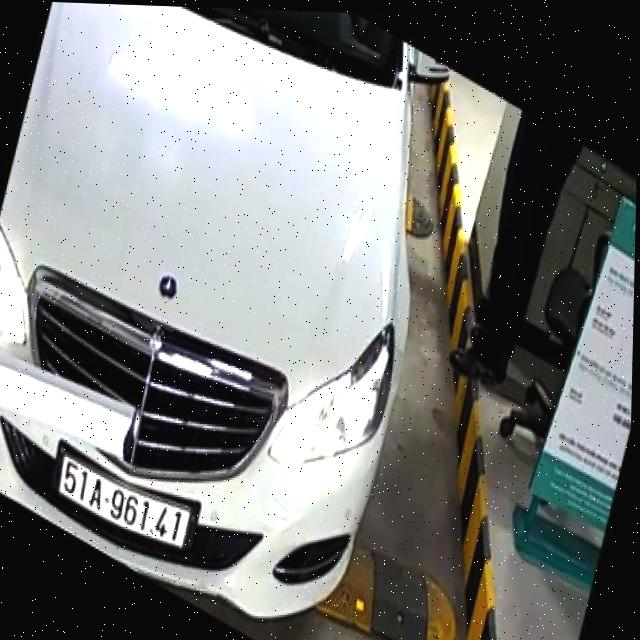car: (0, 0, 456, 631)
plate: (54, 451, 196, 553)
